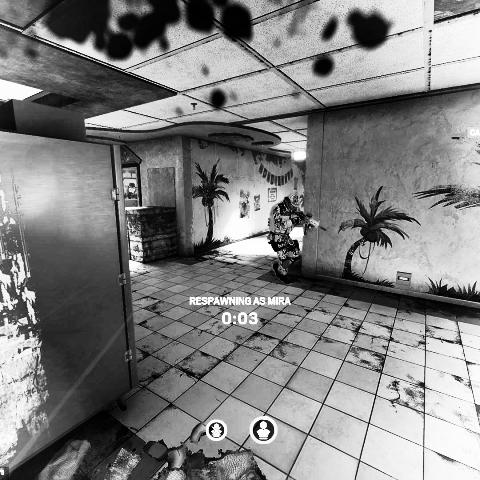Character: (265, 195, 323, 287)
Head: (287, 194, 303, 210)
